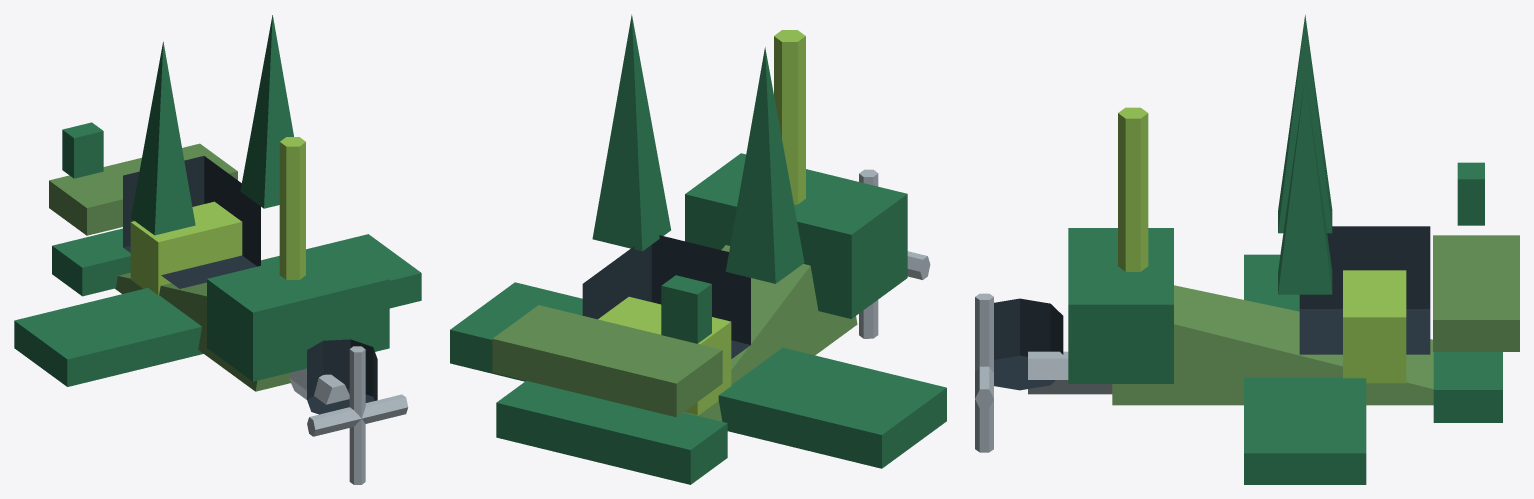
File: scout-aircraft.obj
3 views of the same model, side by side, from view 1: azimuth 30°, elevation 25°; view 2: azimuth 150°, elevation 25°; view 3: azimuth 270°, elevation 25° (orthographic). The views are drawn at different scales.
Visible parts, largest first — view 1: air; view 2: air; view 3: air.
Boxes of the visible parts, x1,y1,x2,y2 form: air: [14, 15, 421, 484]; air: [450, 14, 946, 484]; air: [975, 15, 1519, 484].
Bounding box in the file's own units: 1.56 × 1.48 × 1.8.
